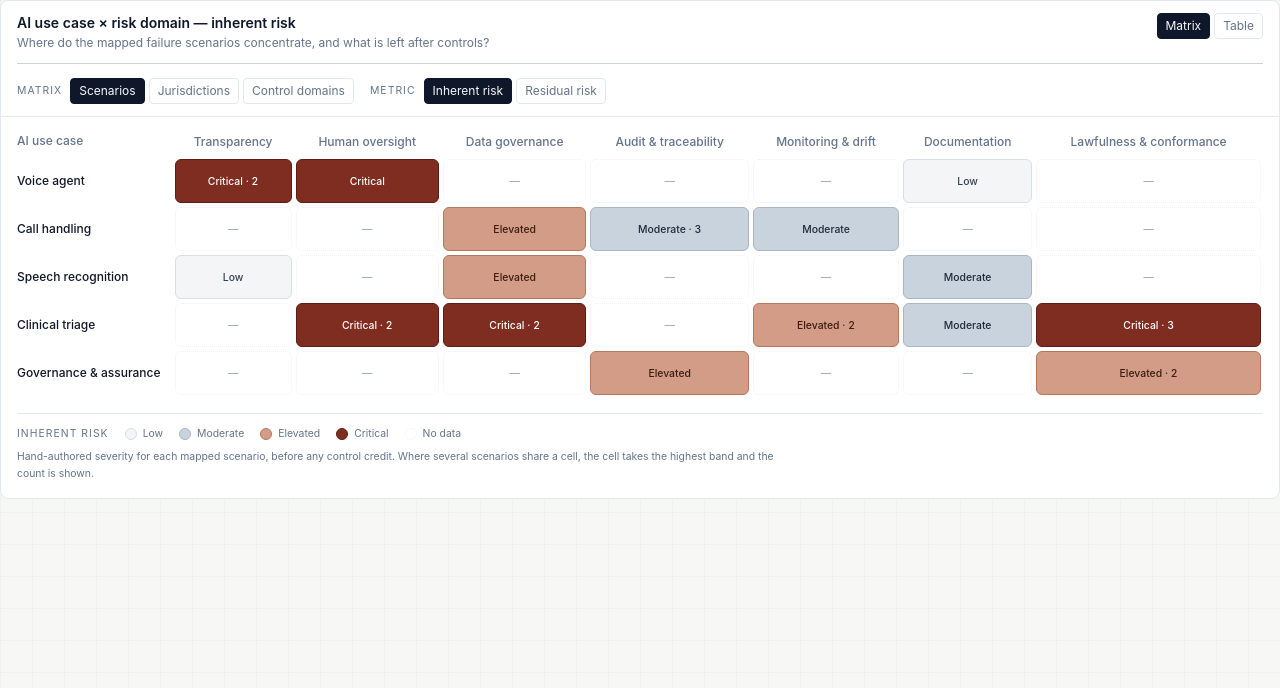
Test: RiskMatrix › switches matrix and resets to that matrix’s first metric
Click the button "Jurisdictions" at point(194, 91), box [149,78,239,104]
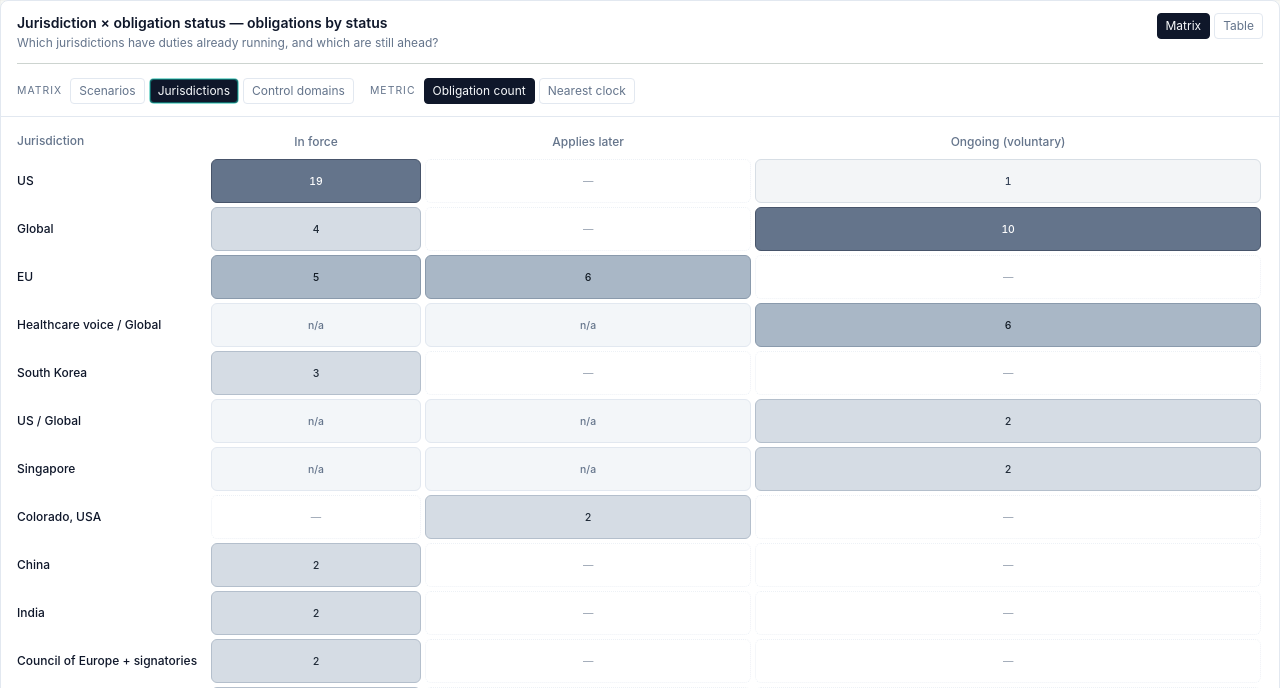
Expected: the heading reads "Jurisdiction × obligation status — obligations by status", [17,13,438,33]
